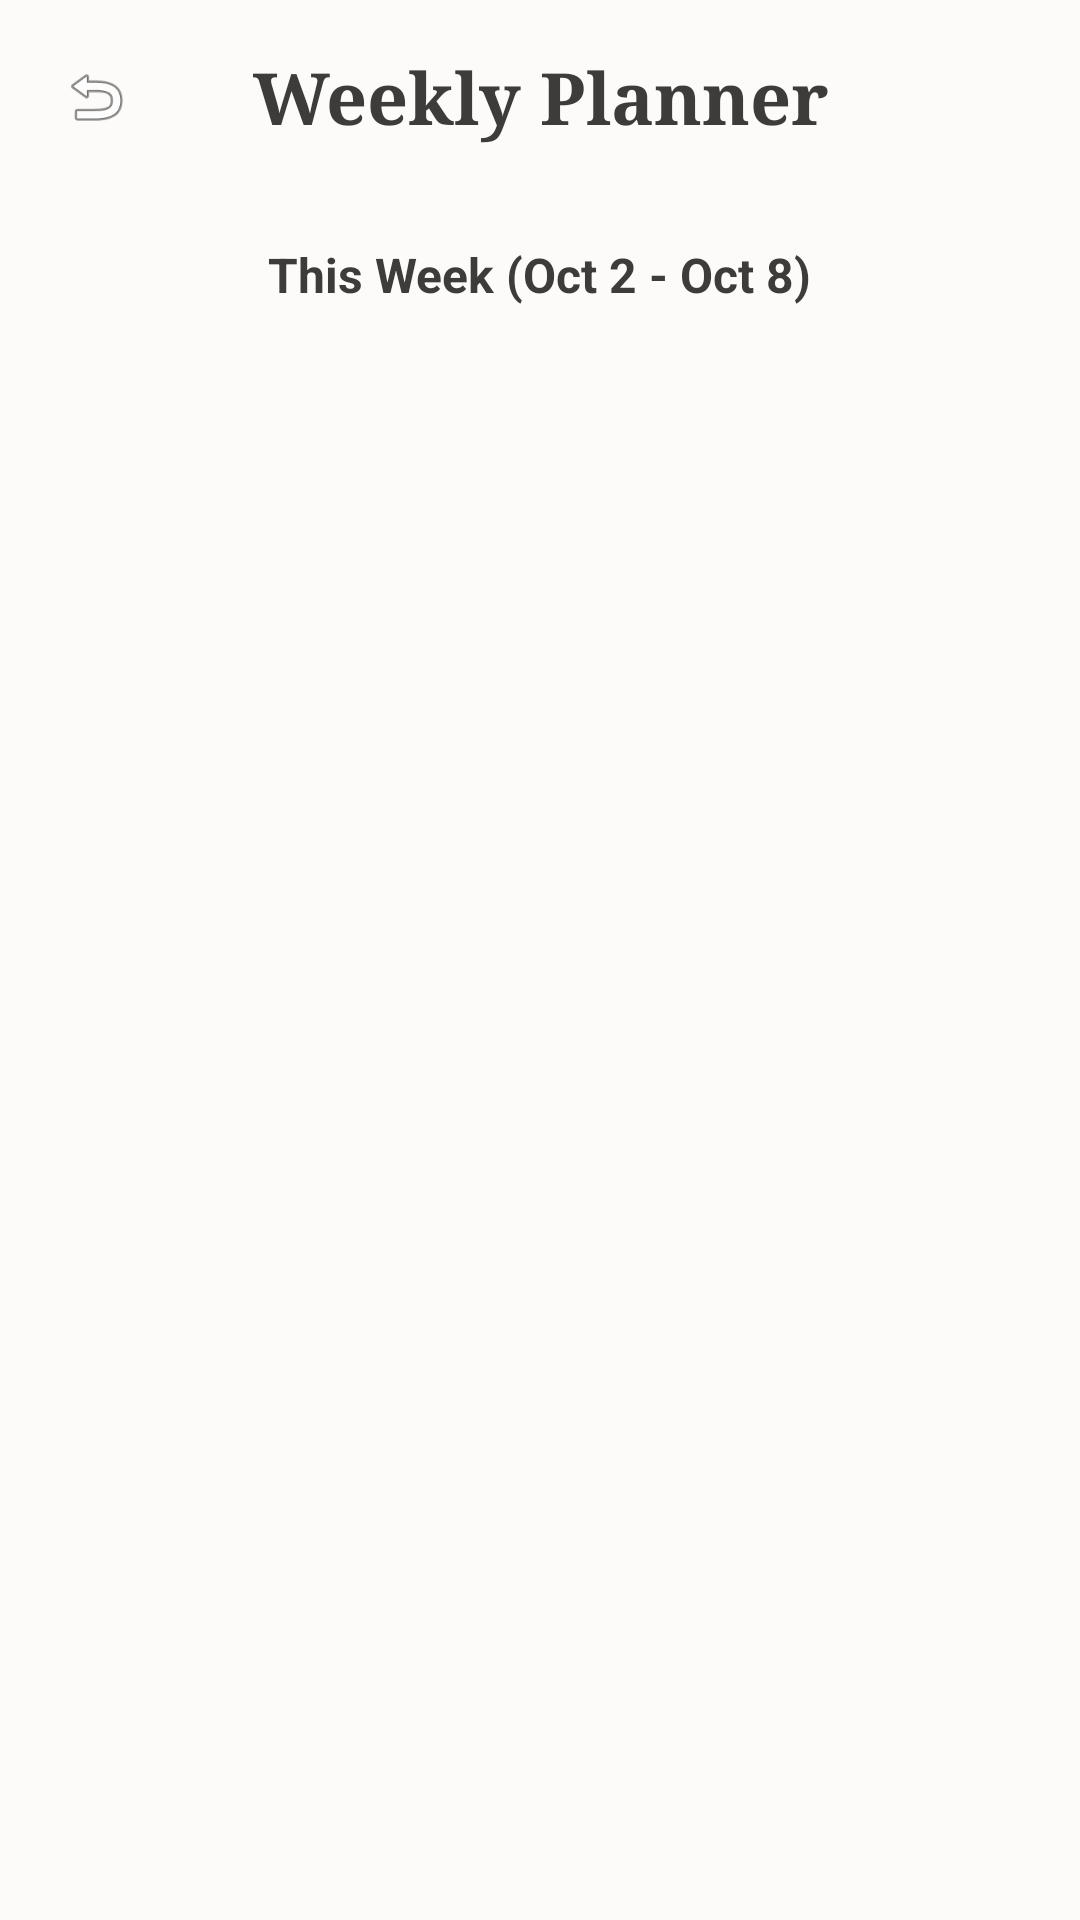

Where icons sit on this 1080 × 1920 app screen, as [x1=x1, y1=y1, x2=x2, y2=y2]:
revert: [x1=71, y1=74, x2=123, y2=121]
